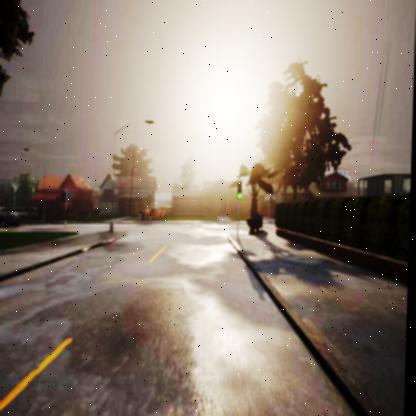vehicle: (0, 207, 24, 227)
